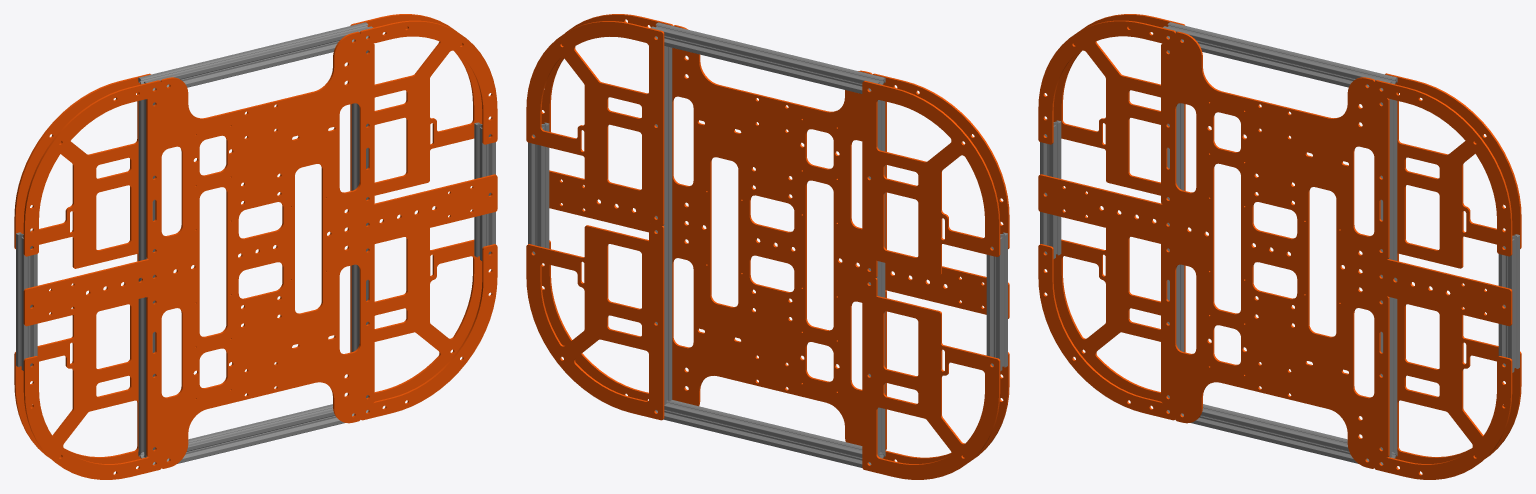
3 views of the same model, side by side, from view 1: azimuth 30°, elevation 25°; view 2: azimuth 150°, elevation 25°; view 3: azimuth 330°, elevation 25° (orthographic).
Visible parts, largest first — view 1: Body1 (×17); view 2: Body1 (×17); view 3: Body1 (×17).
Part boxes in pixels (left/top/right/bottom): Body1 (×17): left=14, top=14, right=497, bottom=479; Body1 (×17): left=526, top=14, right=1009, bottom=479; Body1 (×17): left=1038, top=14, right=1521, bottom=479.
Size of the model in its own units: 674 by 530 by 26.
